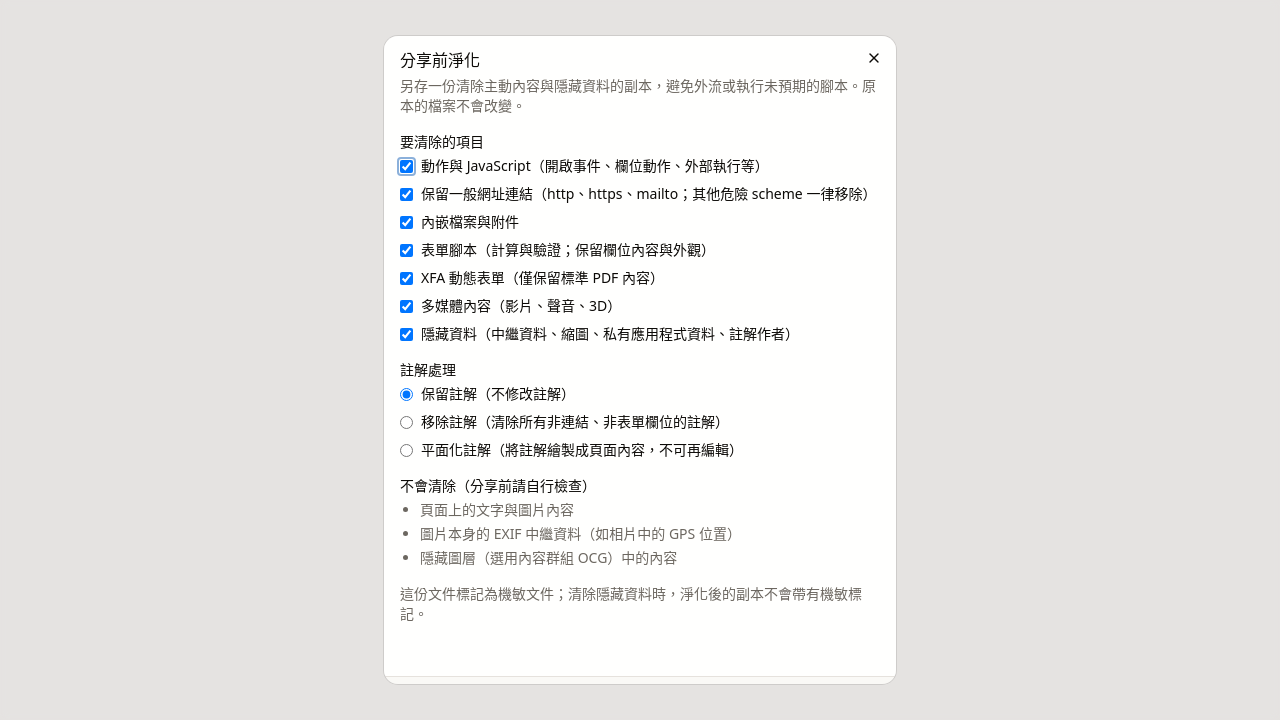
Test: SanitizeDialog (B3-15) › shows default values and Kept list
Expected: the dialog "分享前淨化" is shown, [384, 36, 896, 684]
Expected: the checkbox labelled "動作與 JavaScript（開啟事件、欄位動作、外部執行等）" is checked, [400, 160, 413, 172]
// The sensitive mark is document information: kept when hidden data is not cleared.
Click the checkbox labelled "隱藏資料（中繼資料、縮圖、私有應用程式資料、註解作者）" at [406, 334], box [400, 328, 413, 340]
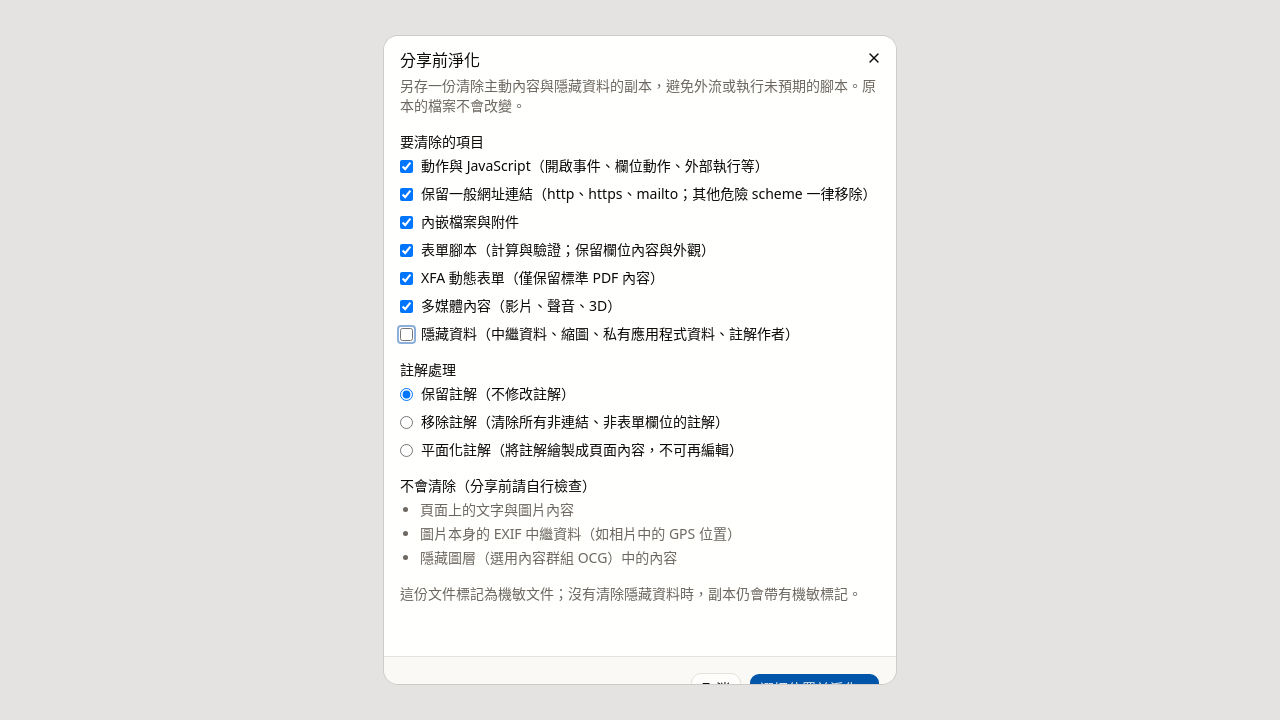
Expected: the text "這份文件標記為機敏文件；沒有清除隱藏資料時，副本仍會帶有機敏標記。" is shown, [400, 584, 880, 604]
Expected: the text "這份文件標記為機敏文件；清除隱藏資料時，淨化後的副本不會帶有機敏標記。" is gone
